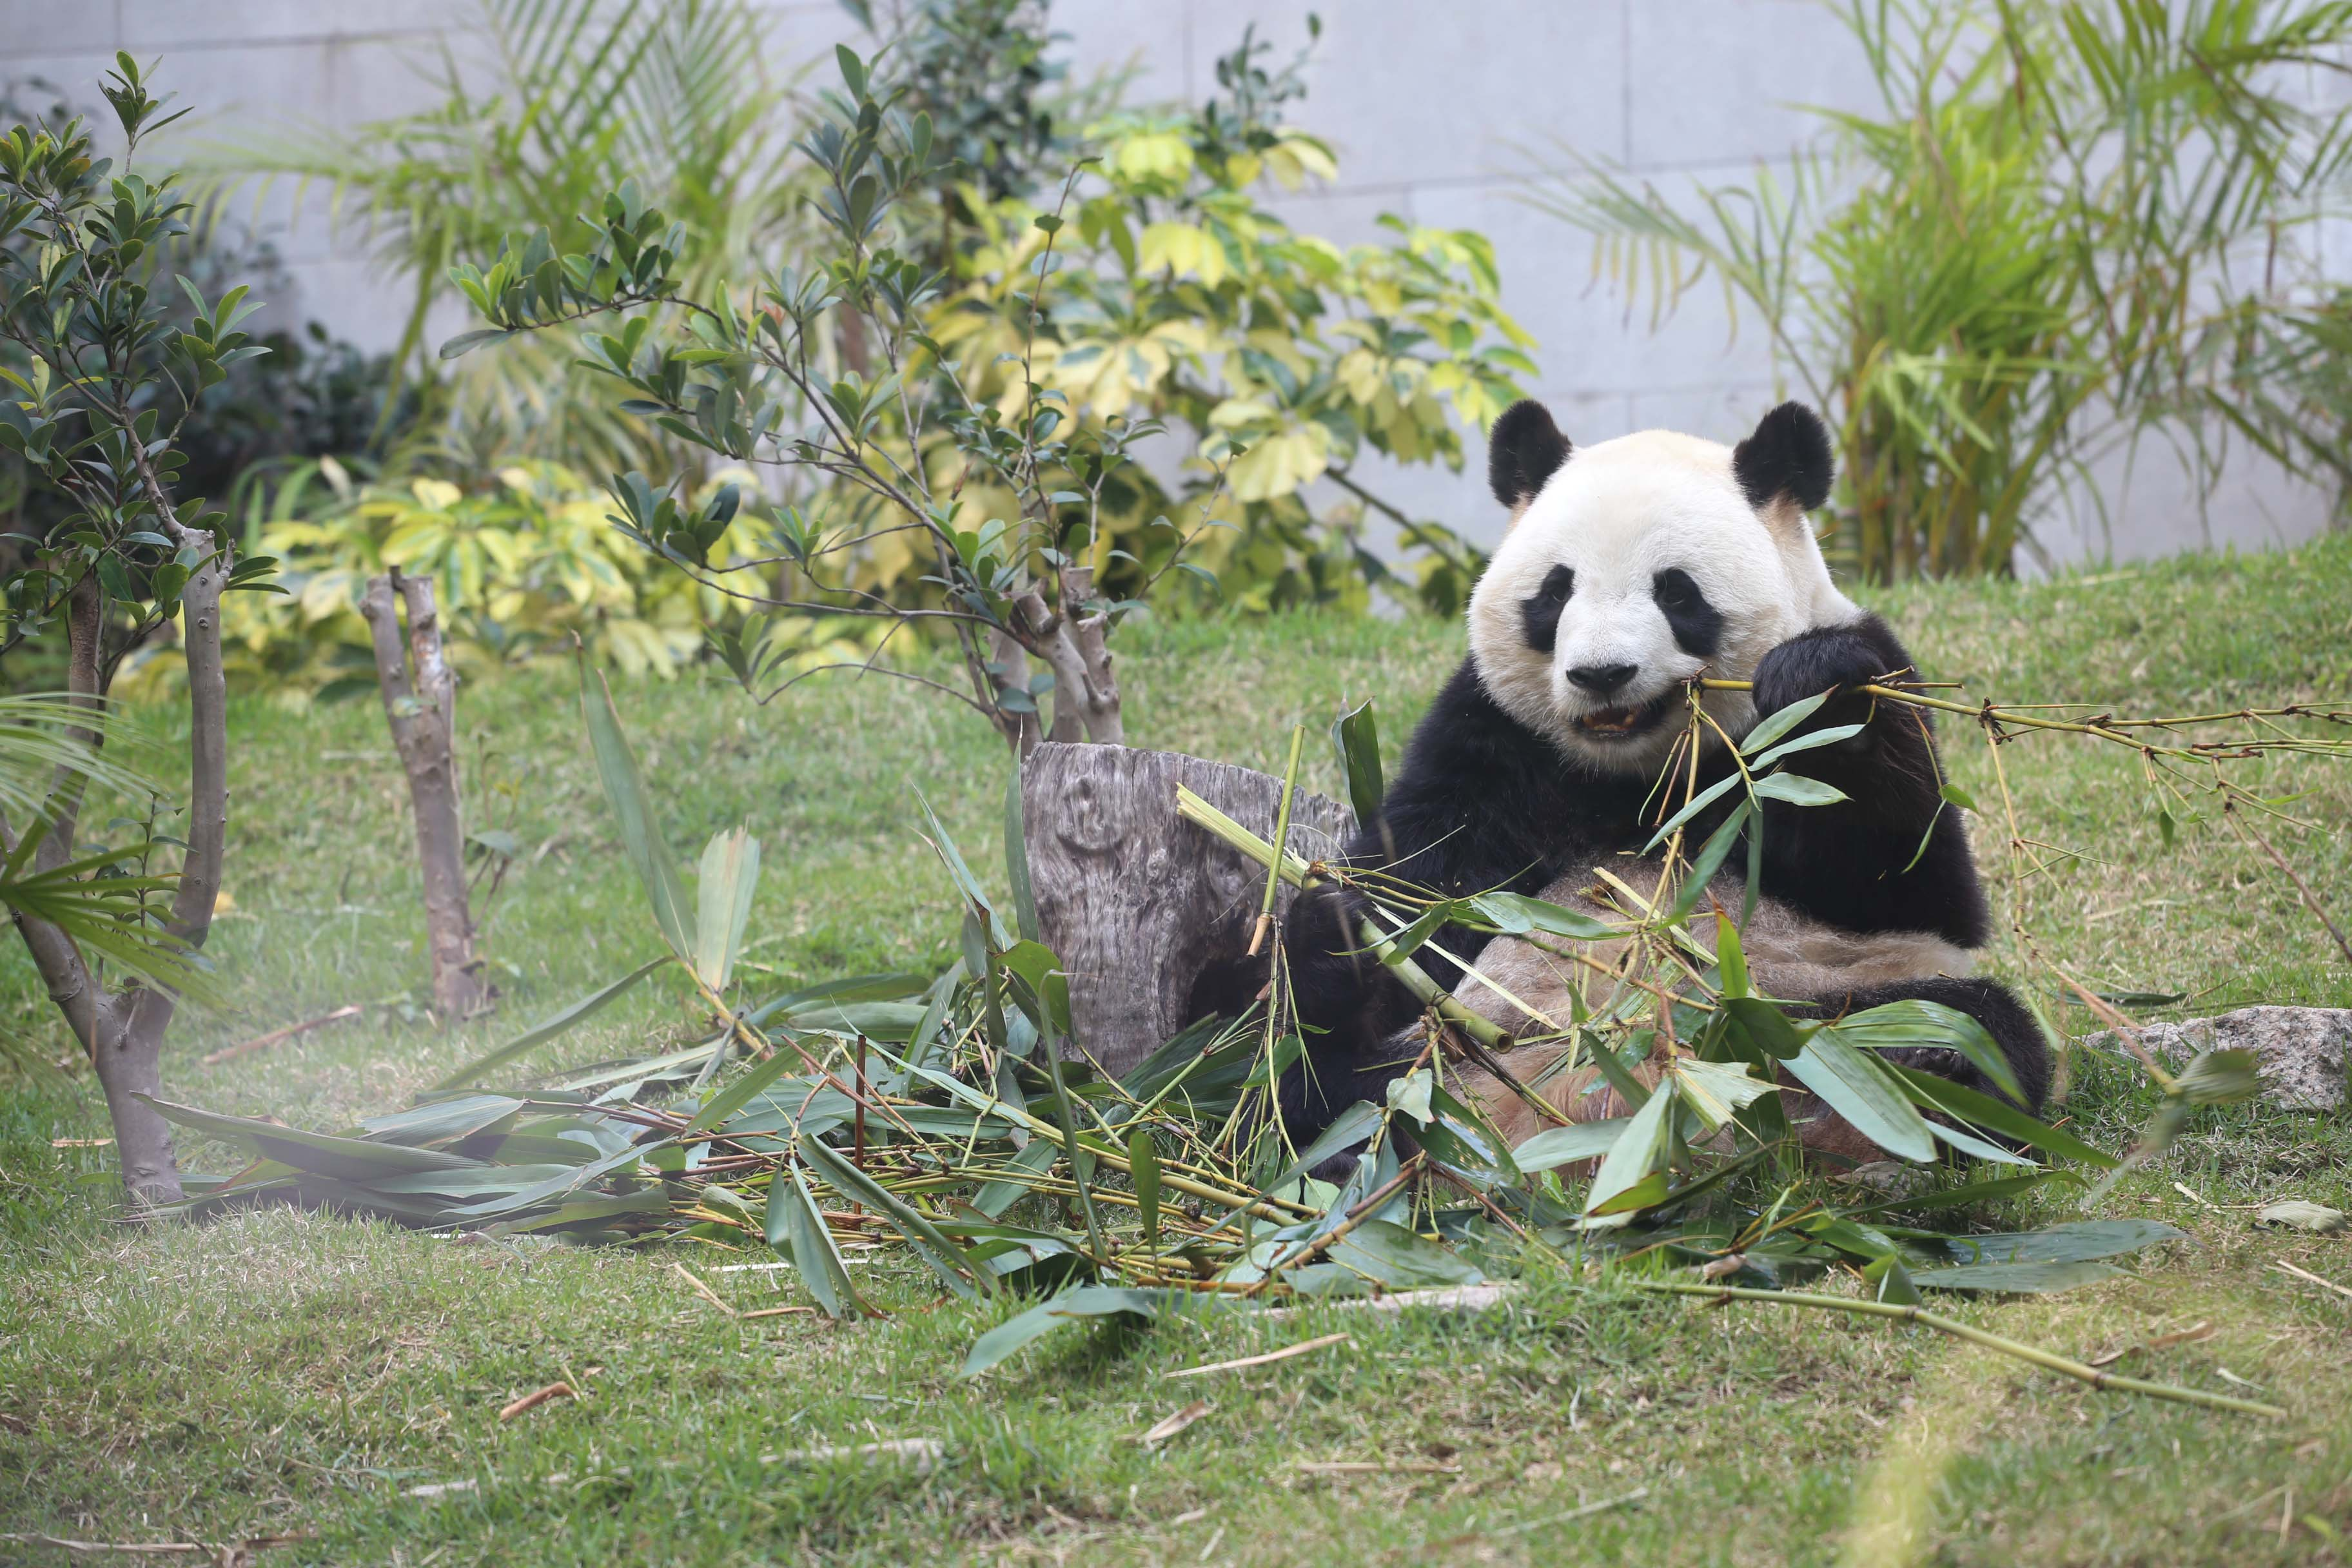panda: (1199, 343, 2035, 1234)
